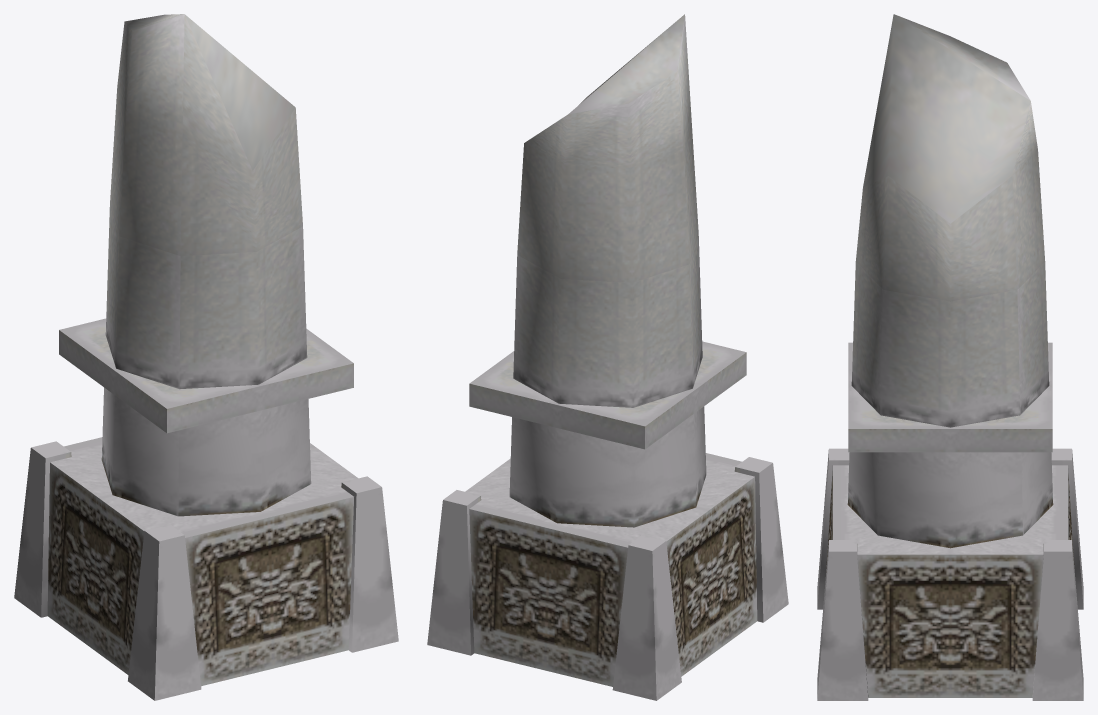
File: general_obj_bigtower05.glb
3 renders of one model, left to right at view 1: azimuth 30°, elevation 25°; view 2: azimuth 150°, elevation 25°; view 3: azimuth 270°, elevation 25°, orthographic. The views are drawn at different scales.
Parts seen in each view (by area): view 1: Sphere01; view 2: Sphere01; view 3: Sphere01.
Part boxes in pixels (x1,y1,x2,y2): Sphere01: (14,14,398,700); Sphere01: (427,14,788,700); Sphere01: (817,14,1083,700).
Size of the model in its own units: 5.22 by 13.09 by 5.21.
1 material, 1 textured.
